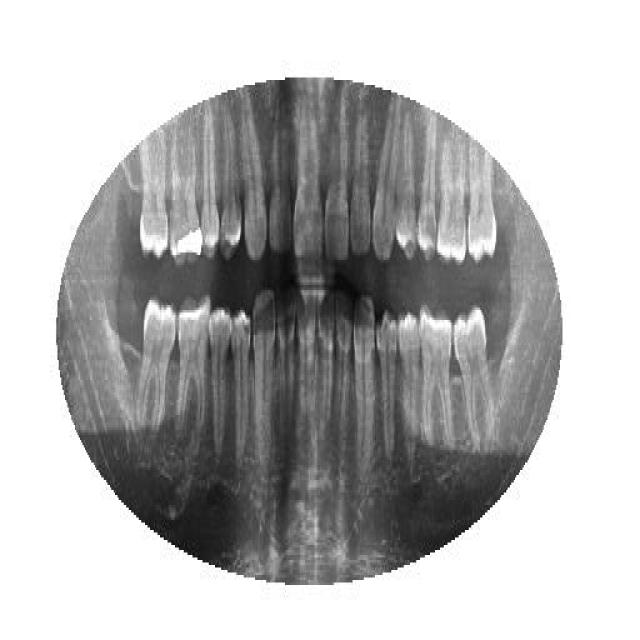Fillings: (168, 113, 202, 265)
